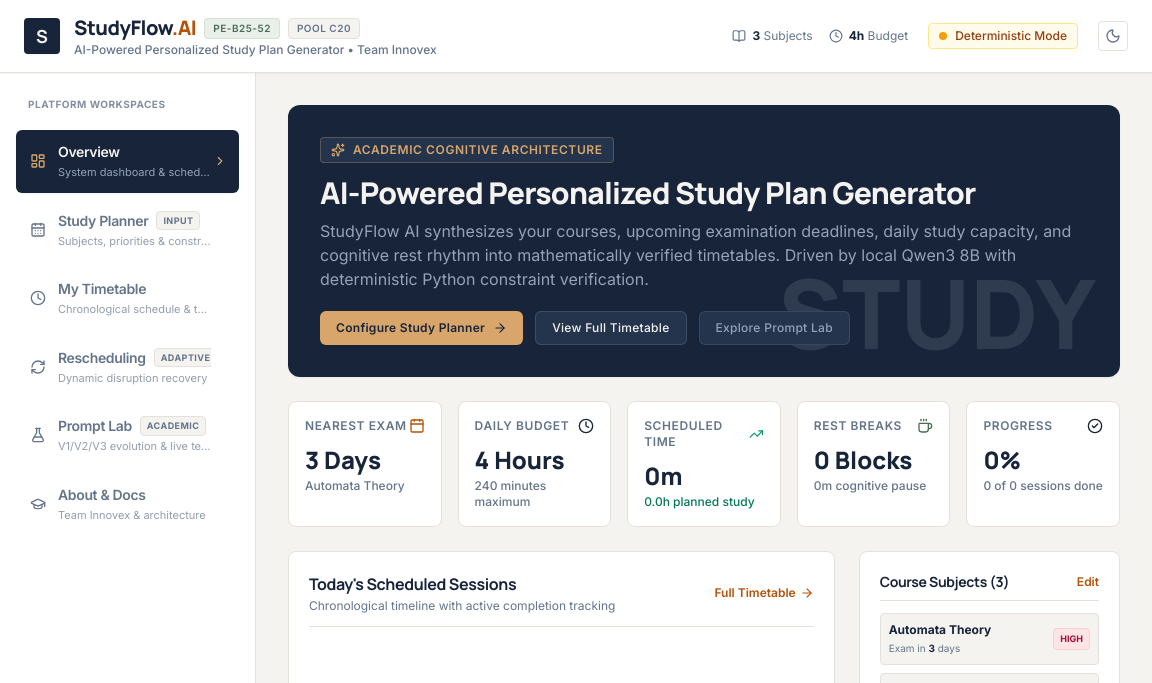
Scenario: StudyFlow AI Application Workspaces Navigation › switches to Prompt Lab workspace on navigation click
Click the text "Prompt Lab": [95, 426] box left=58, top=416, right=132, bottom=436
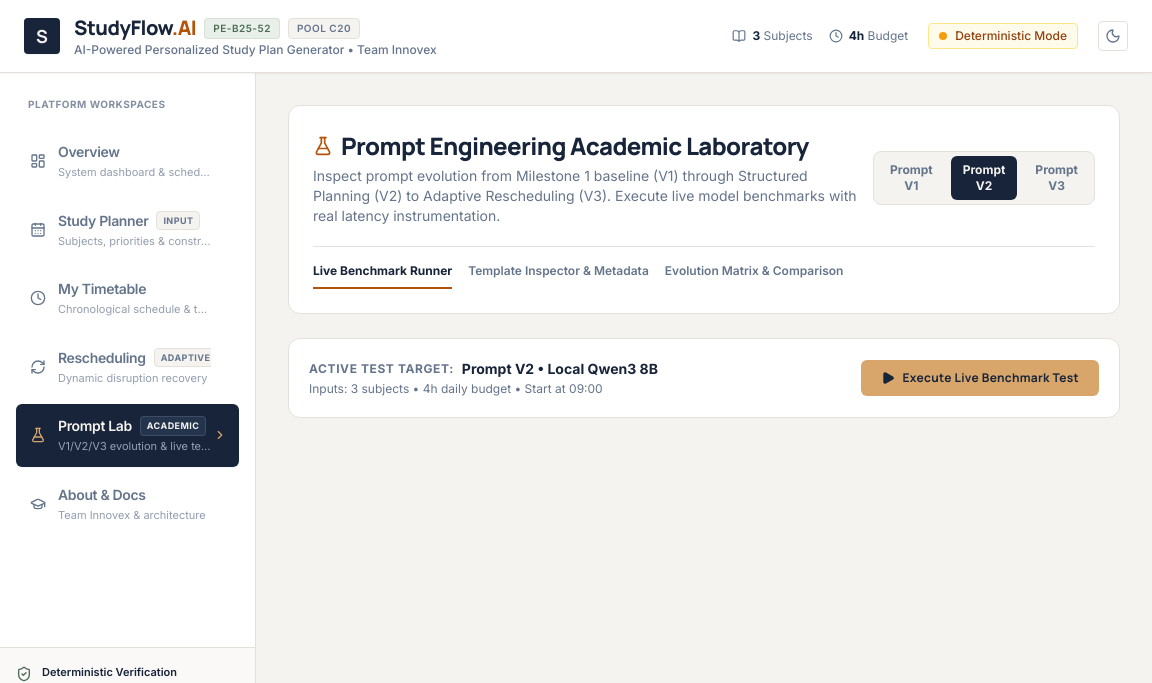
Expected: the heading "Prompt Engineering Academic Laboratory" is shown, left=341, top=130, right=809, bottom=162
Expected: the button "Live Benchmark Runner" is shown, left=313, top=263, right=452, bottom=289
